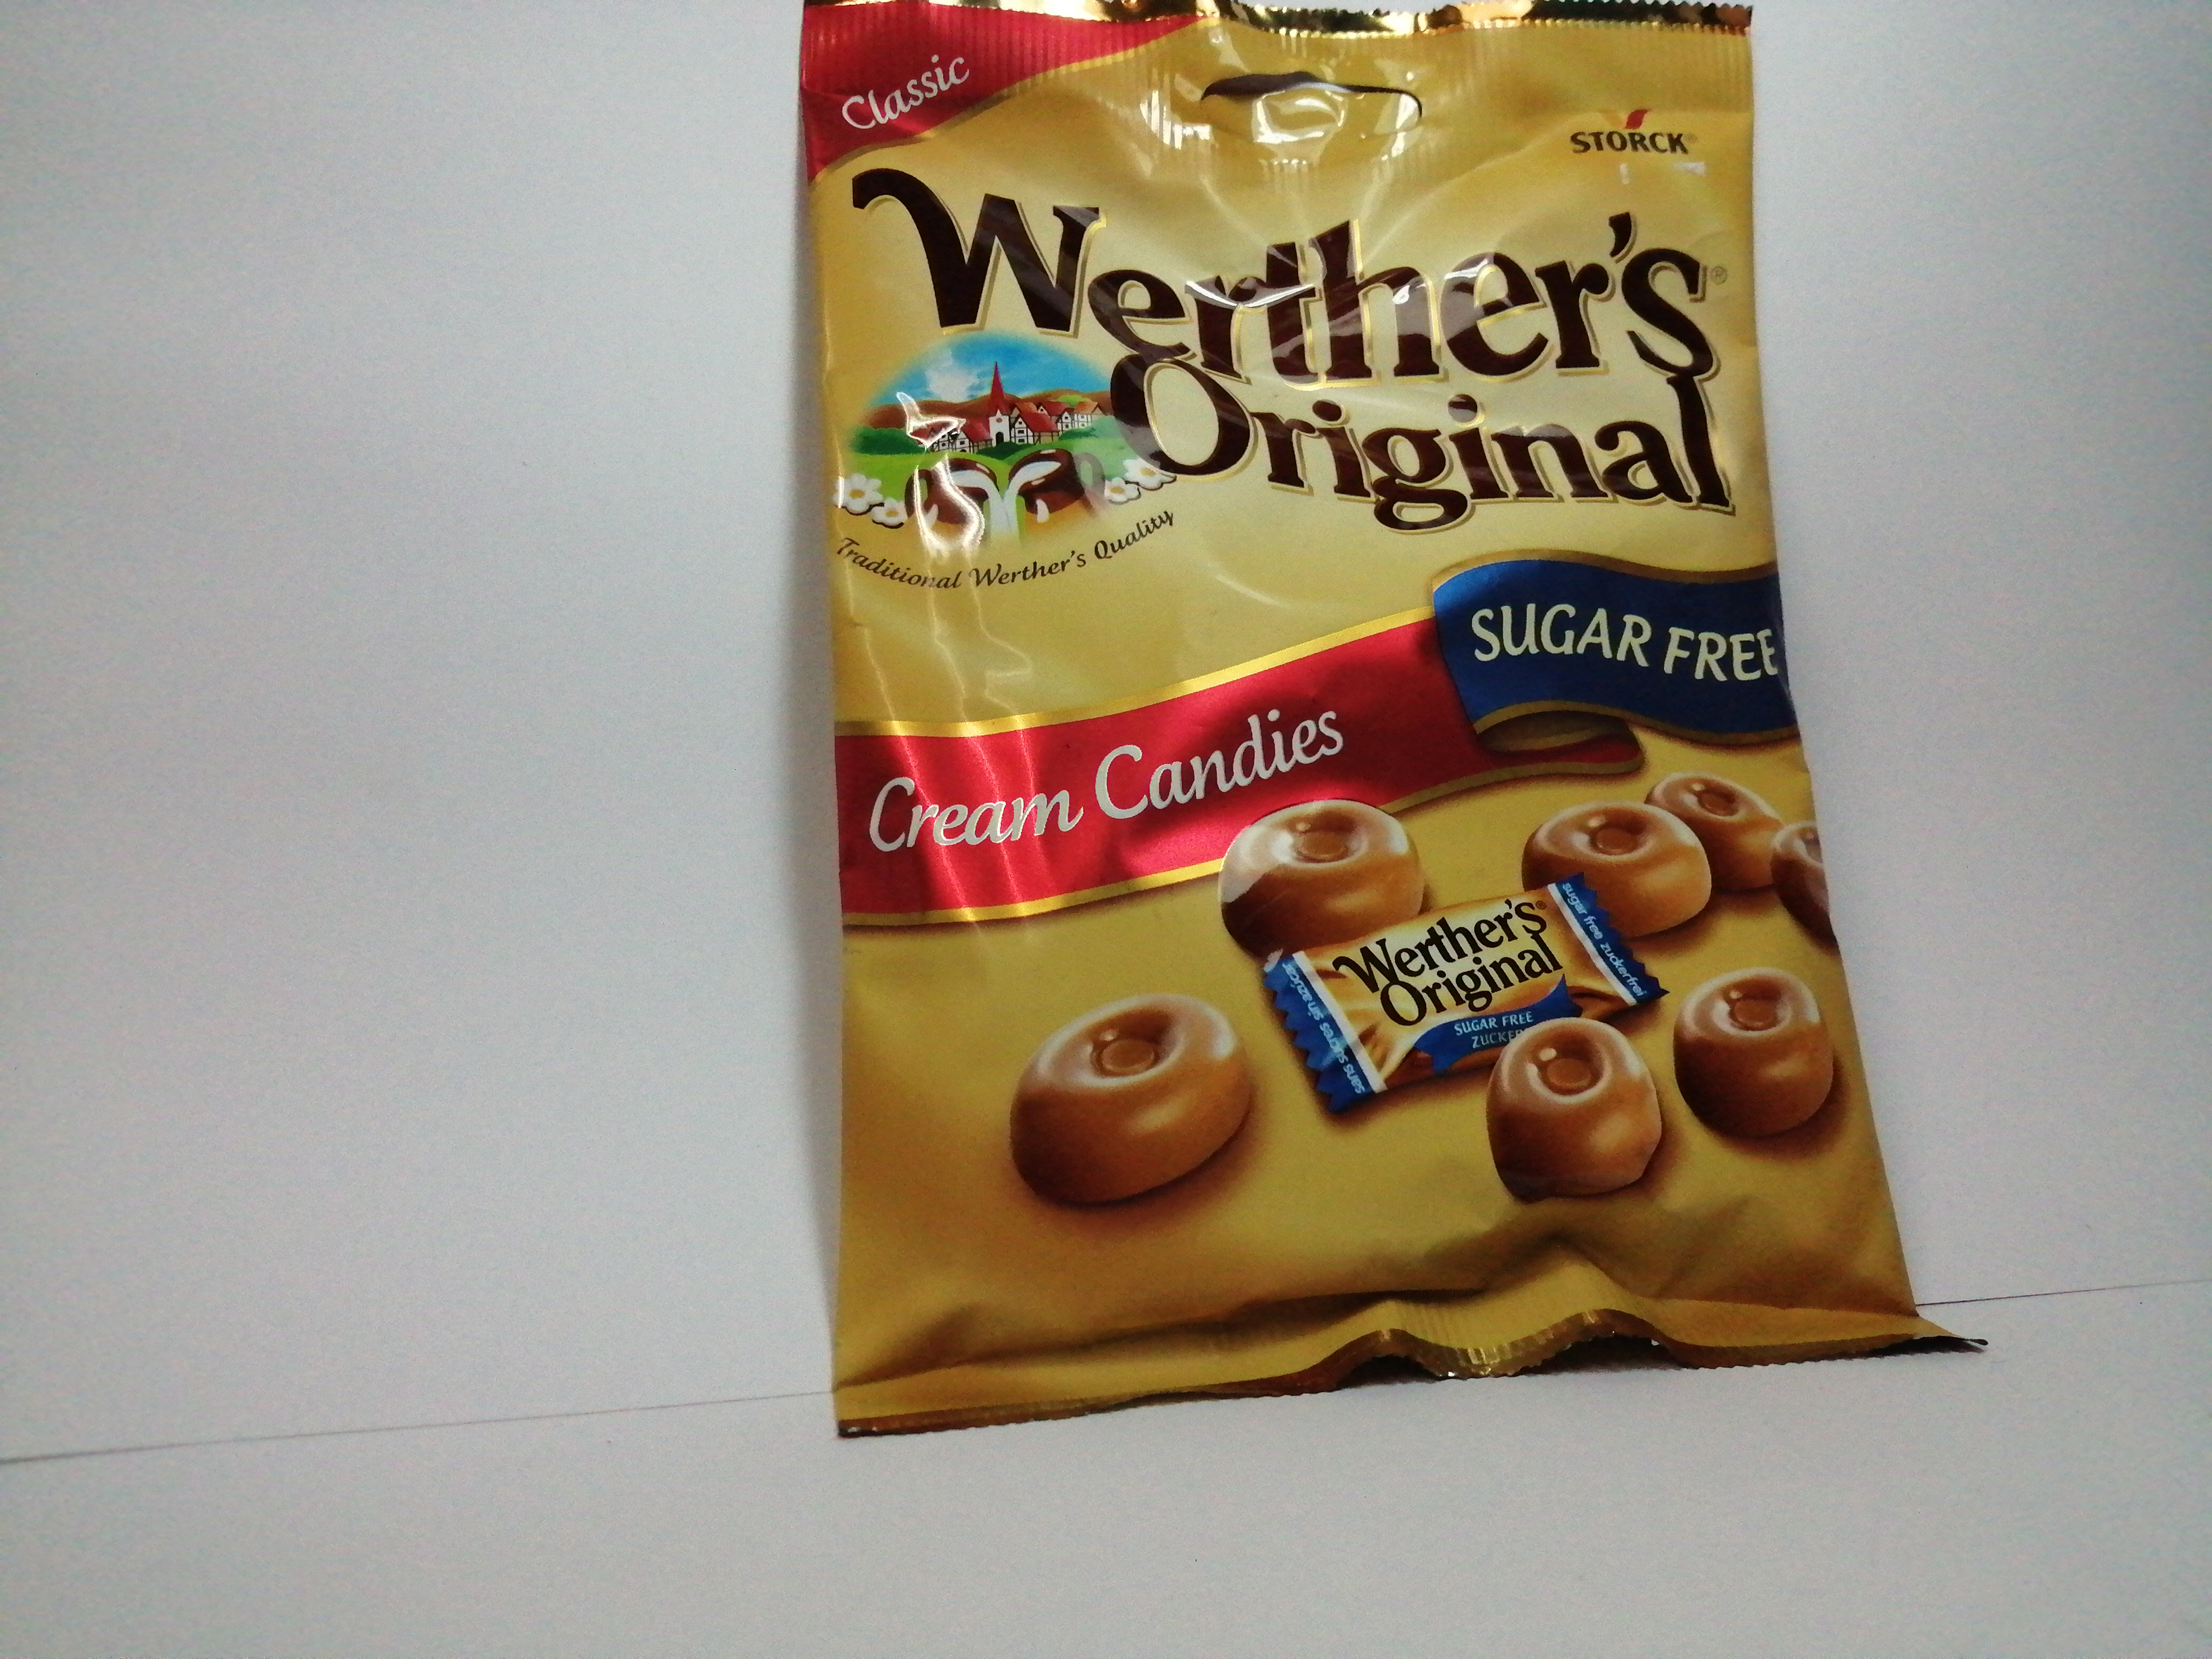dulces: (789, 0, 1986, 1436)
